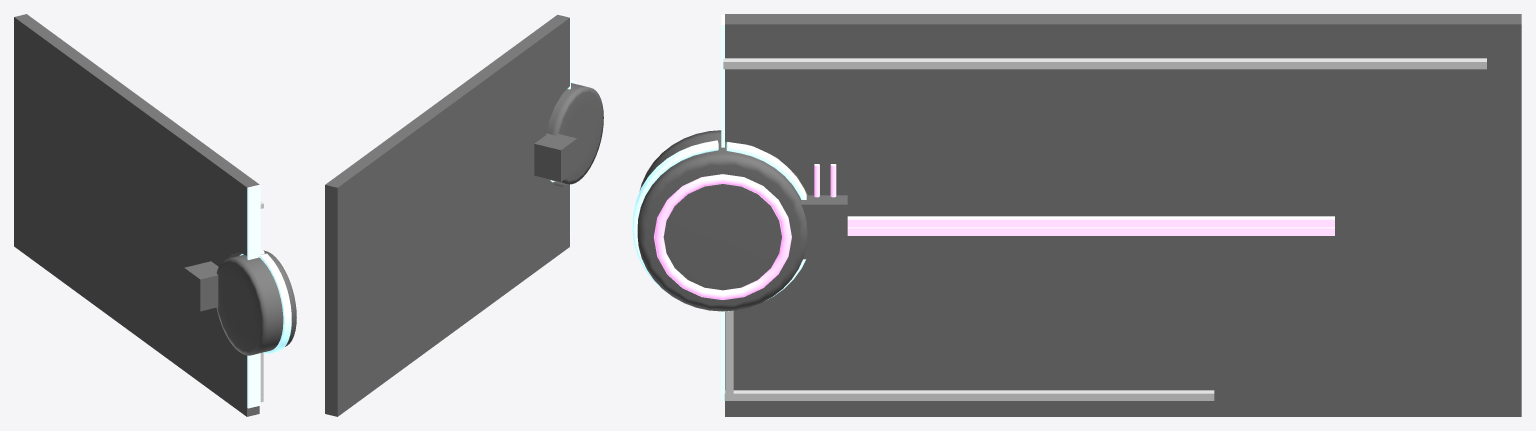
The model's file is rightDoor.gltf.
3 views of the same model, side by side, from view 1: azimuth 30°, elevation 25°; view 2: azimuth 150°, elevation 25°; view 3: azimuth 270°, elevation 25° (orthographic). The views are drawn at different scales.
Parts seen in each view (by area): view 1: polySurface195; view 2: polySurface195; view 3: polySurface195.
Boxes of the visible parts, box(x1,y1,x2,y2) form: polySurface195: box(14, 14, 296, 416); polySurface195: box(325, 14, 603, 416); polySurface195: box(632, 14, 1521, 416).
Size of the model in its own units: 0.0328 by 0.1272 by 0.2611.
